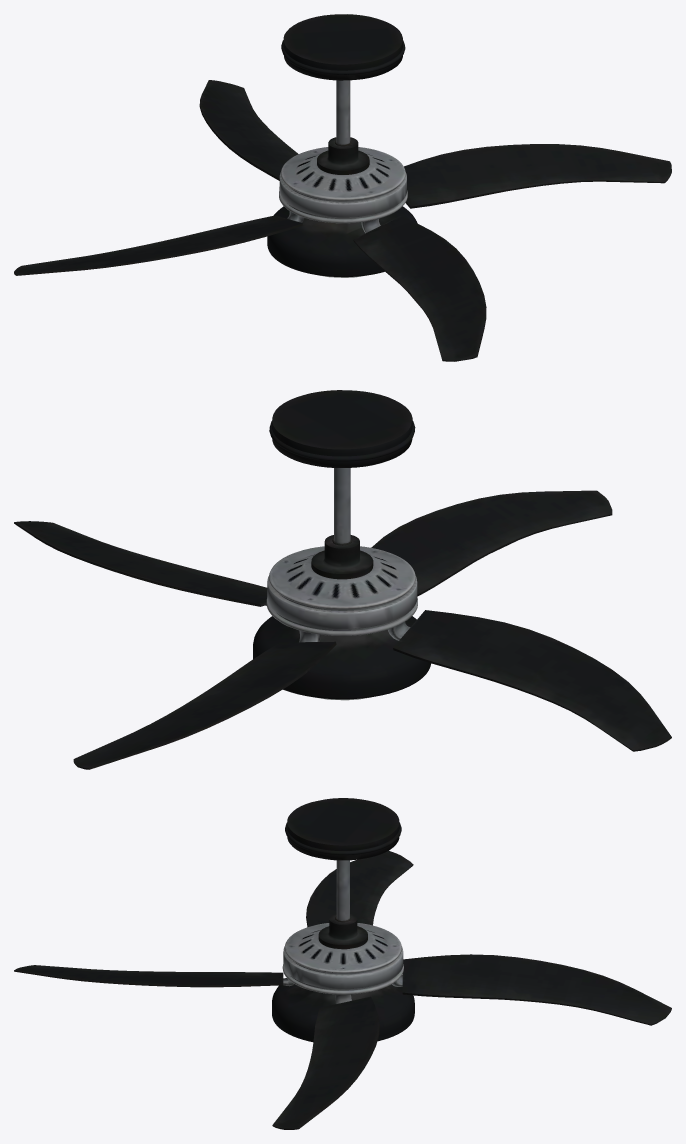
The model's file is ceiling_fan.glb.
3 renders of one model, top to bottom at view 1: azimuth 30°, elevation 25°; view 2: azimuth 150°, elevation 25°; view 3: azimuth 270°, elevation 25°, orthographic. The views are drawn at different scales.
Parts seen in each view (by area): view 1: ceiling_fan; view 2: ceiling_fan; view 3: ceiling_fan.
Part boxes in pixels (x1,y1,x2,y2): ceiling_fan: (14, 14, 671, 361); ceiling_fan: (14, 390, 671, 769); ceiling_fan: (14, 798, 671, 1129).
Bounding box in the file's own units: 1.46 × 0.5163 × 1.46.
1 material, 1 textured.
